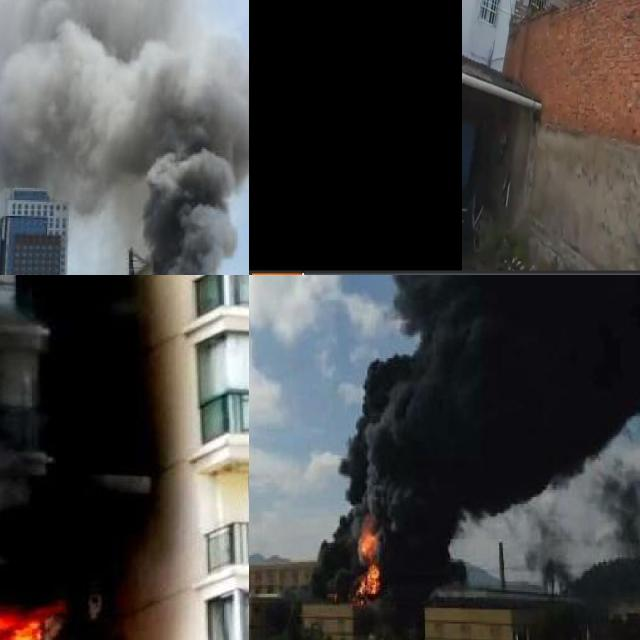fire: (356, 525, 380, 596)
smoke: (310, 275, 640, 599), (0, 0, 249, 275), (0, 275, 160, 614)
